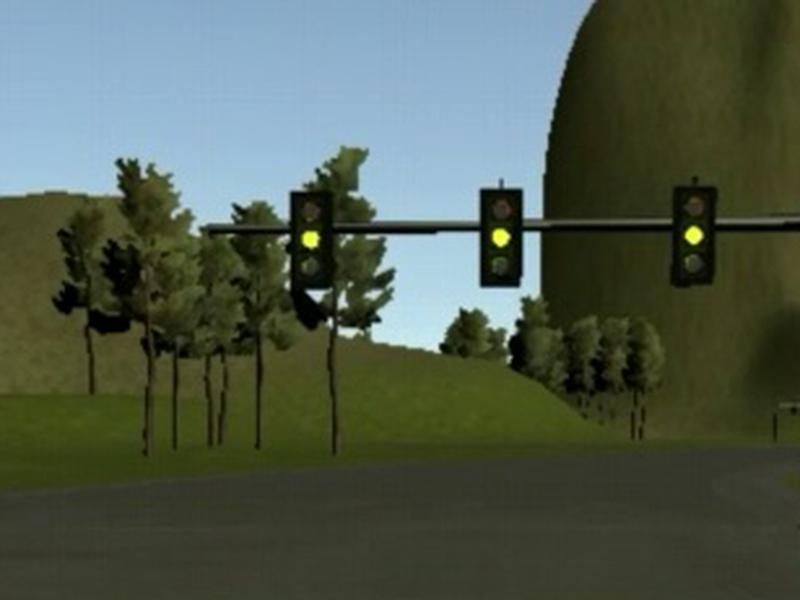Yellow: (673, 186, 717, 286), (480, 189, 522, 289), (292, 190, 334, 288)
